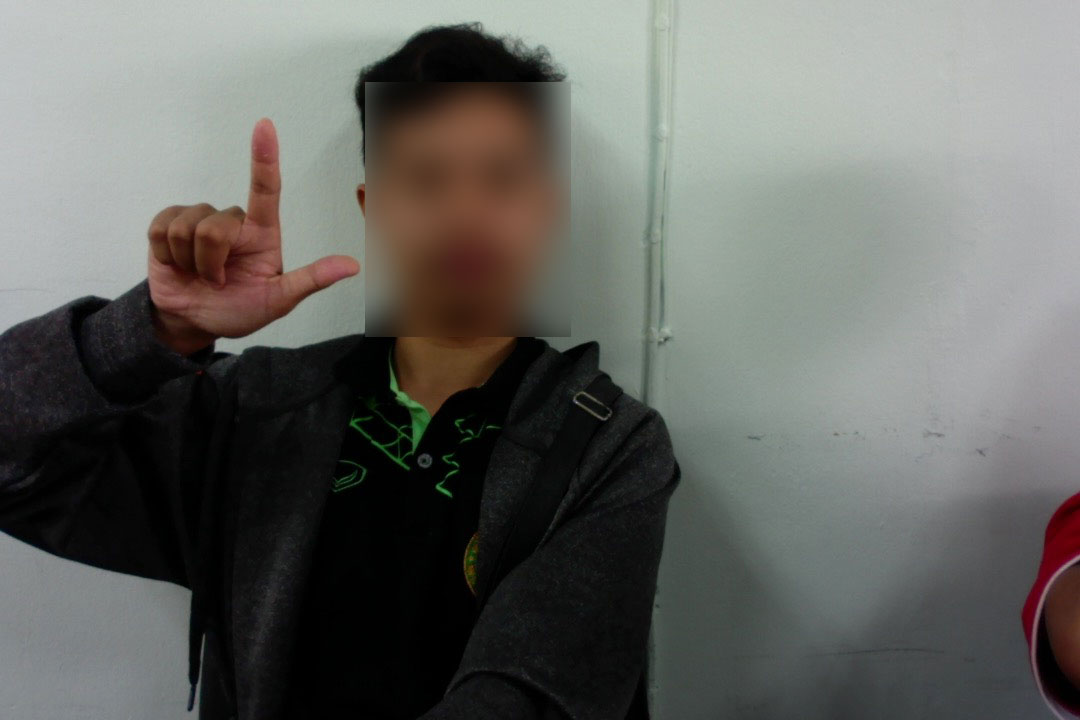lor: (103, 109, 368, 359)
